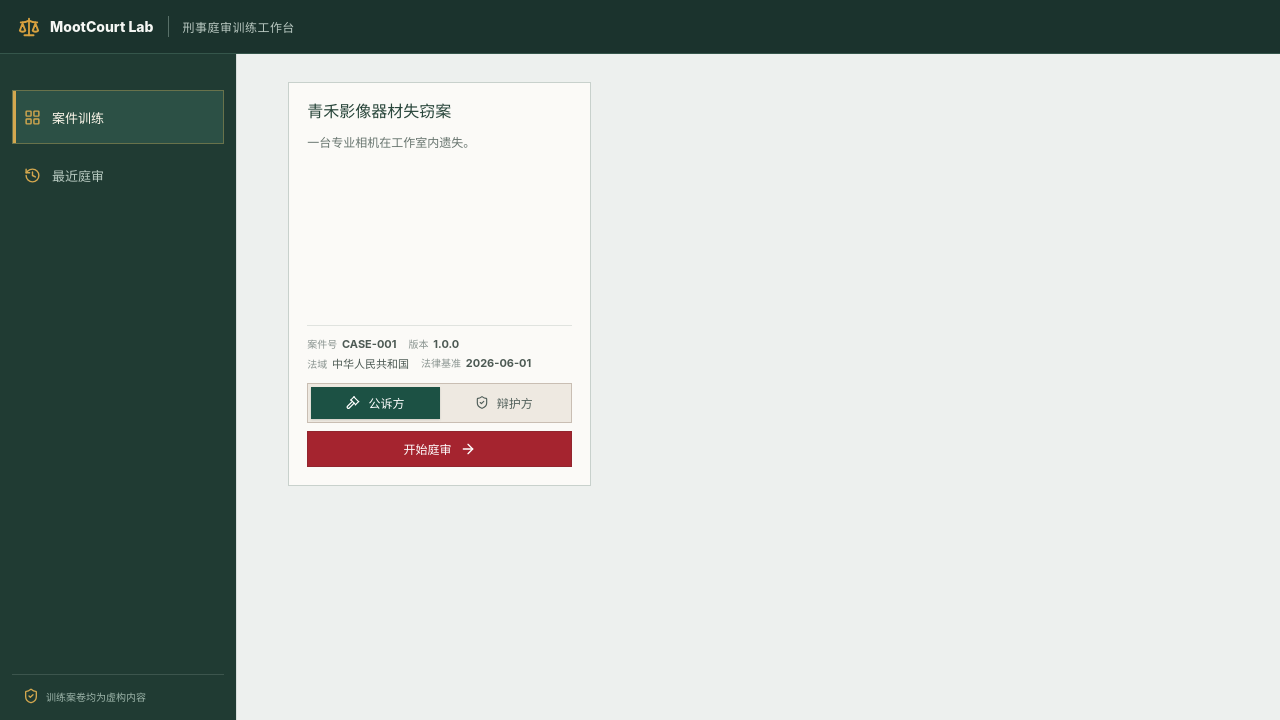
Test: App › creates a courtroom with the selected defense role
Click the radio button labelled "辩护方".
click(504, 403)  # box [440,387,568,419]
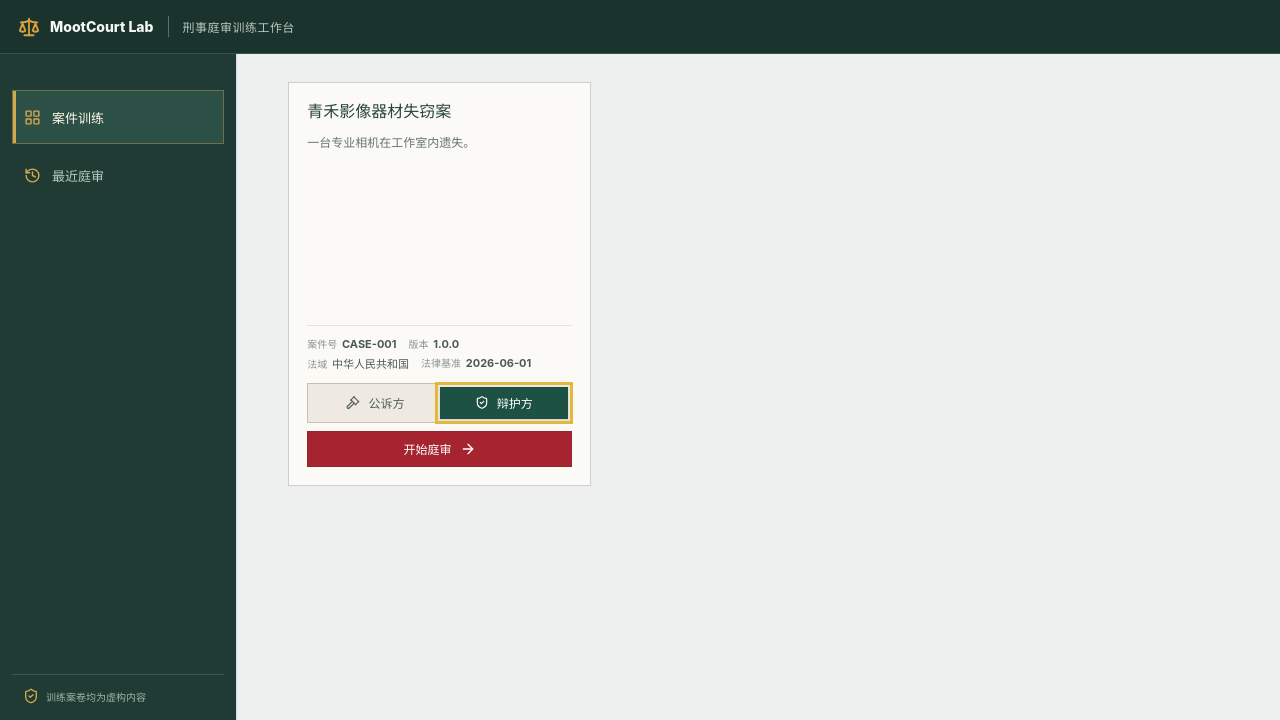
Click the button "开始庭审".
click(440, 449)  # box [307,431,572,467]
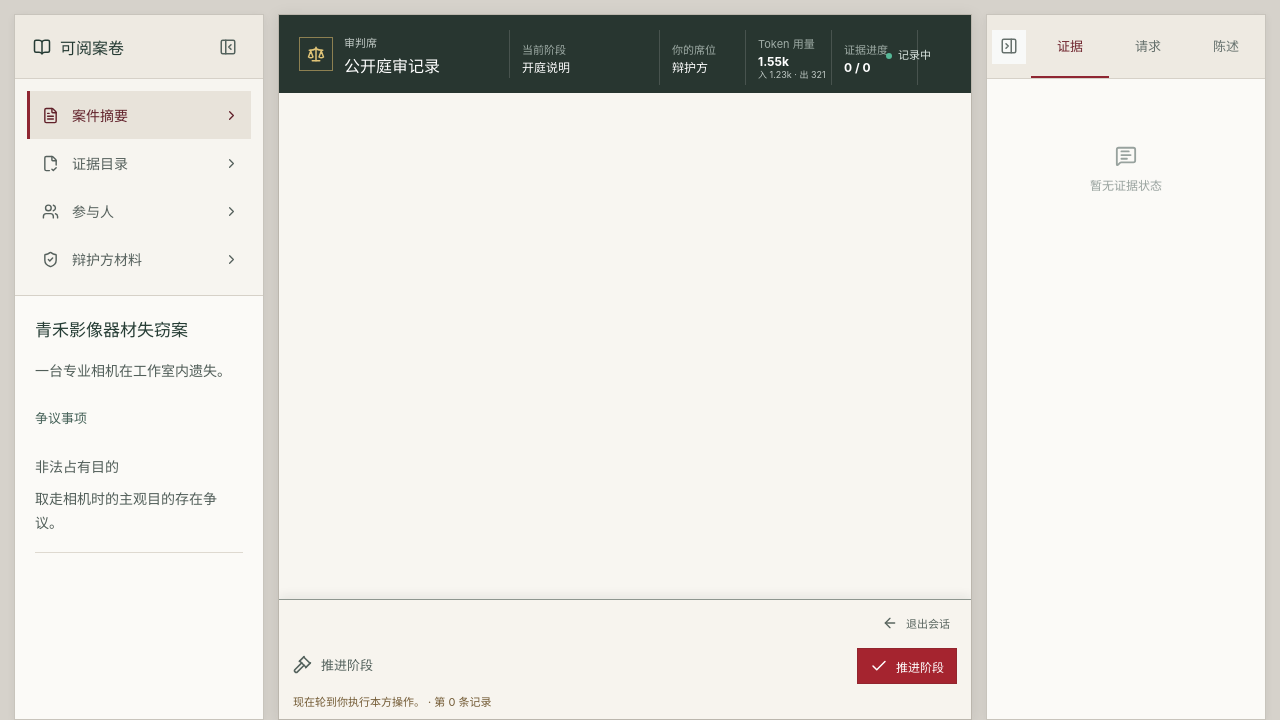
Check: the heading "公开庭审记录" is shown, box [344,53,440,77]
Check: the text "辩护方材料" is shown, box [72,251,142,268]
